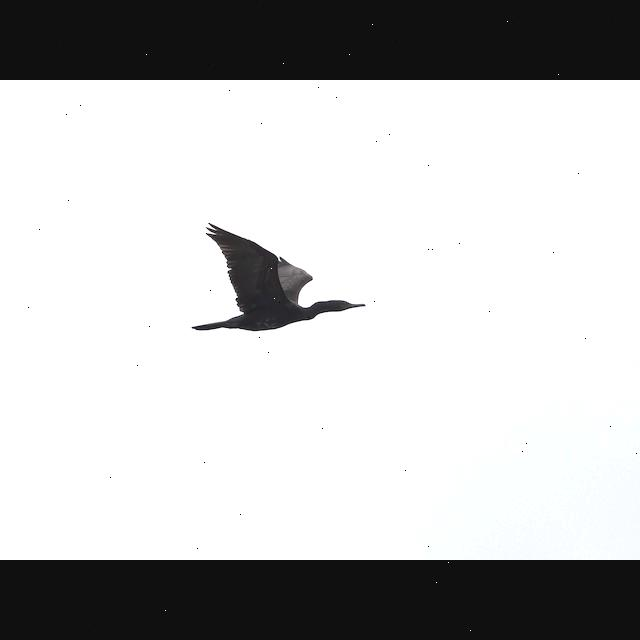cormorant: (188, 221, 370, 333)
